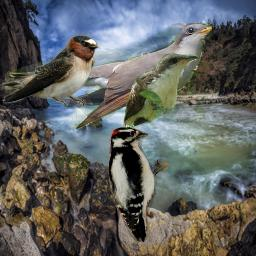Cuckoo: (5, 23, 212, 129), (122, 53, 198, 129)
Swallow: (0, 32, 102, 107)
Woodpecker: (109, 127, 168, 242)
